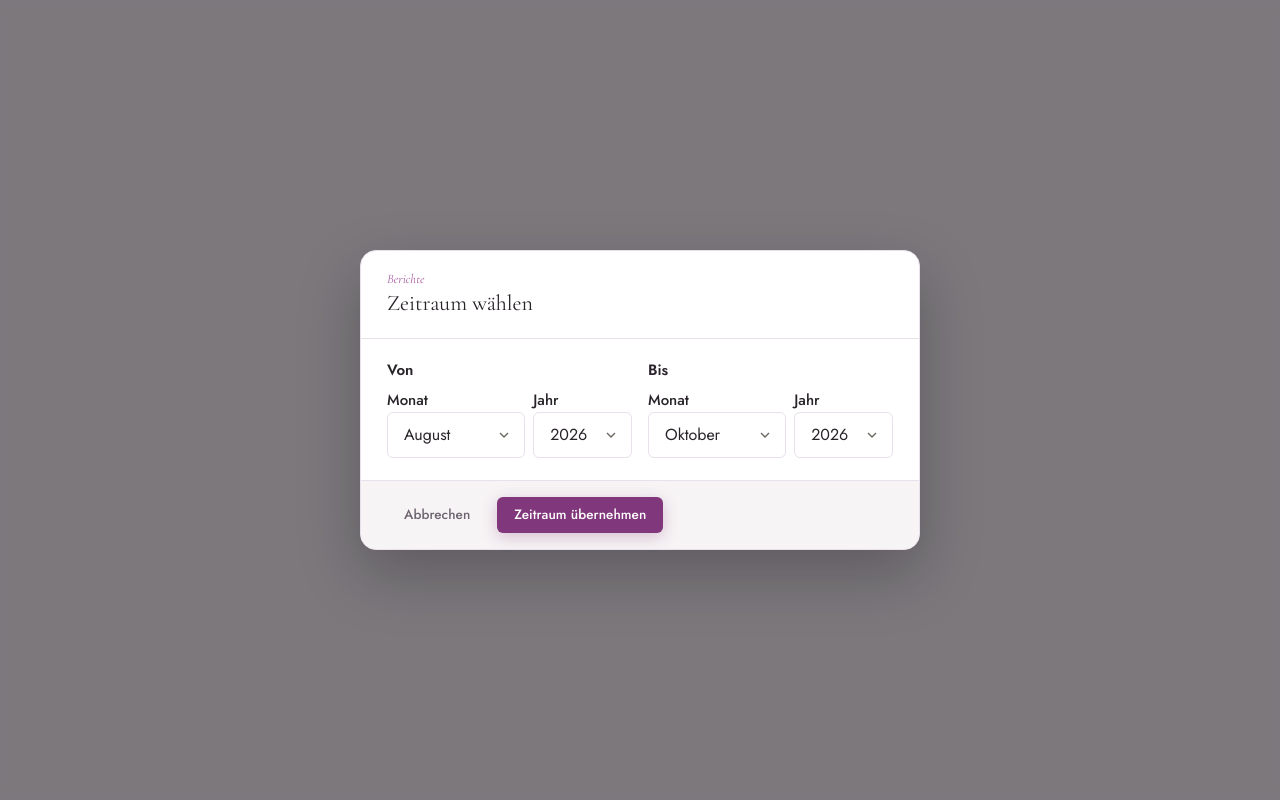
it: PeriodRangeDialog — validation › exactly twelve months is accepted
The image size is (1280, 800).
Expected: the dropdown labelled "Monat" below "Von" shows "August", x1=387 y1=412 x2=525 y2=458
Select "2025" in the dropdown labelled "Jahr" below "Von": [583, 435] box x1=533 y1=412 x2=632 y2=458
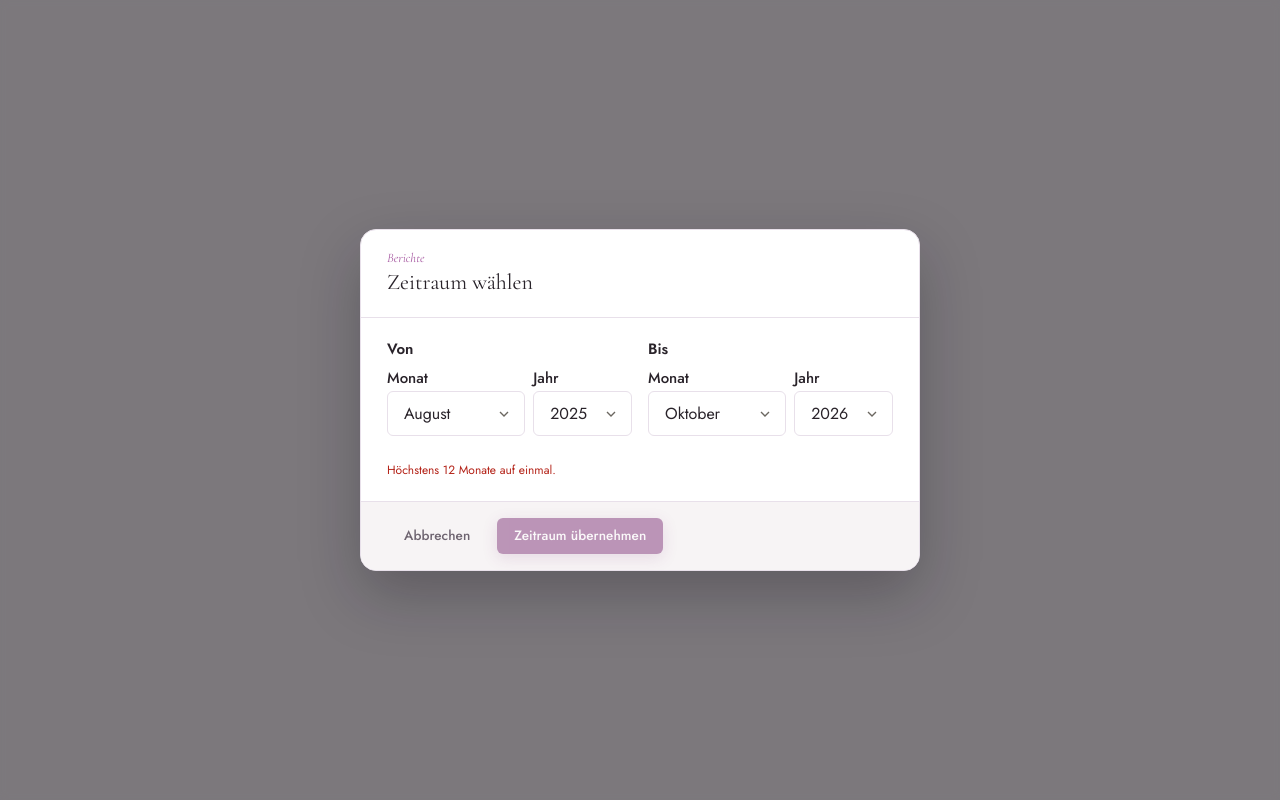
Select "November" in the dropdown labelled "Monat" below "Von": [456, 414] box x1=387 y1=391 x2=525 y2=436
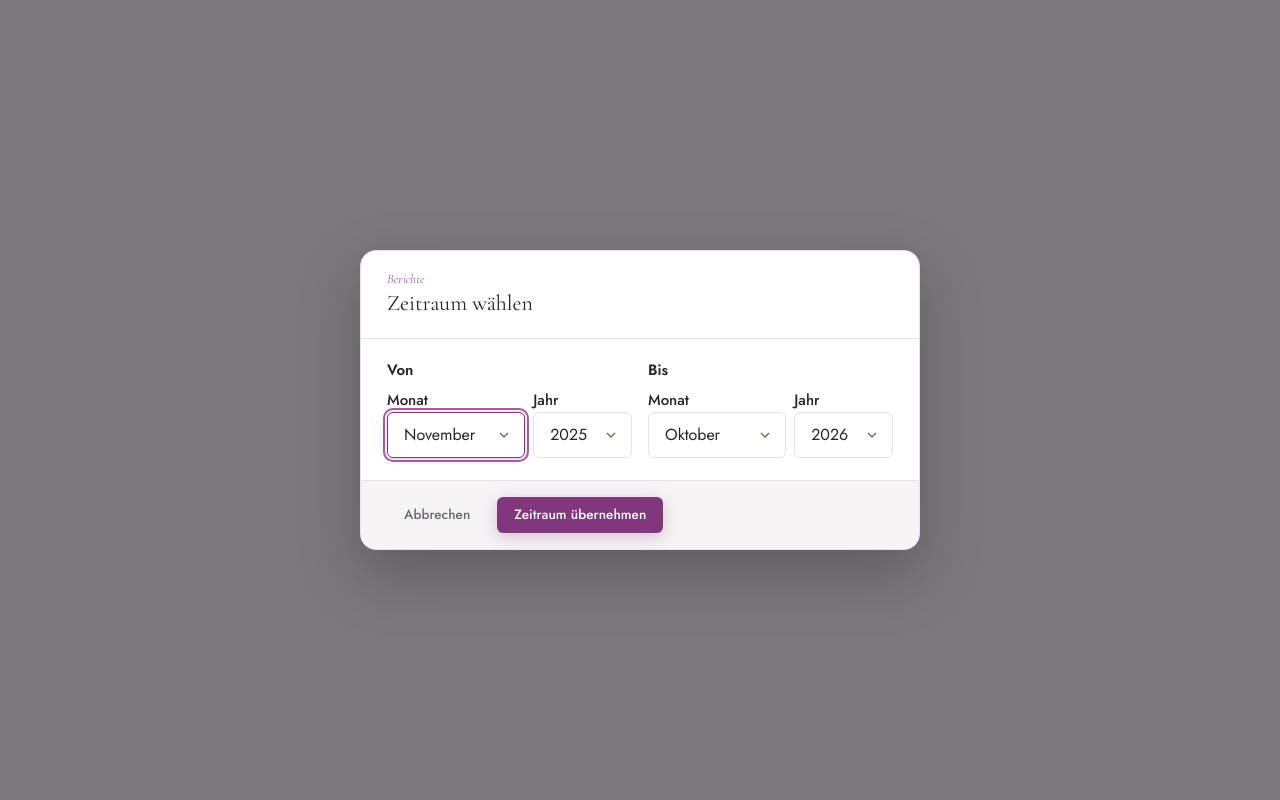
Now the message "Höchstens 12 Monate auf einmal." is gone
Now the button "Zeitraum übernehmen" is enabled, box x1=497 y1=497 x2=663 y2=533
